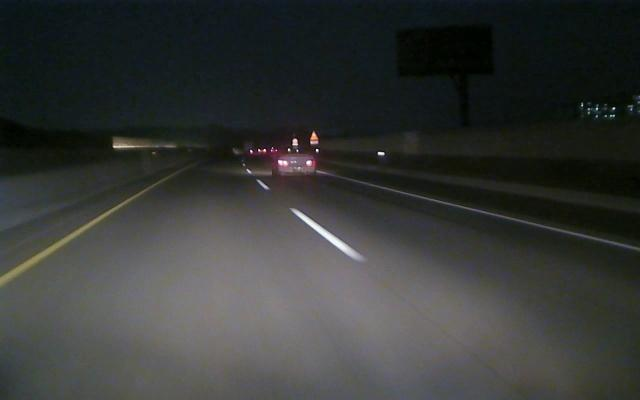lane: (321, 172, 638, 252), (1, 196, 135, 286), (258, 181, 368, 262)
